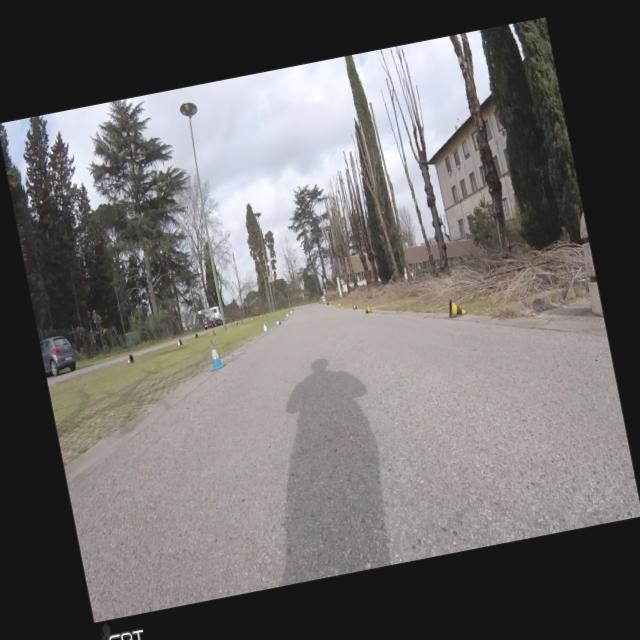blue_cone: (206, 339, 227, 371), (262, 322, 270, 335), (274, 318, 282, 325), (285, 312, 289, 318)
orange_cone: (126, 354, 136, 364), (175, 339, 183, 347)
unknown_cone: (212, 328, 216, 337), (195, 334, 199, 338)
yellow_cone: (446, 296, 467, 318), (363, 305, 372, 315), (352, 302, 359, 310), (338, 303, 342, 309)
